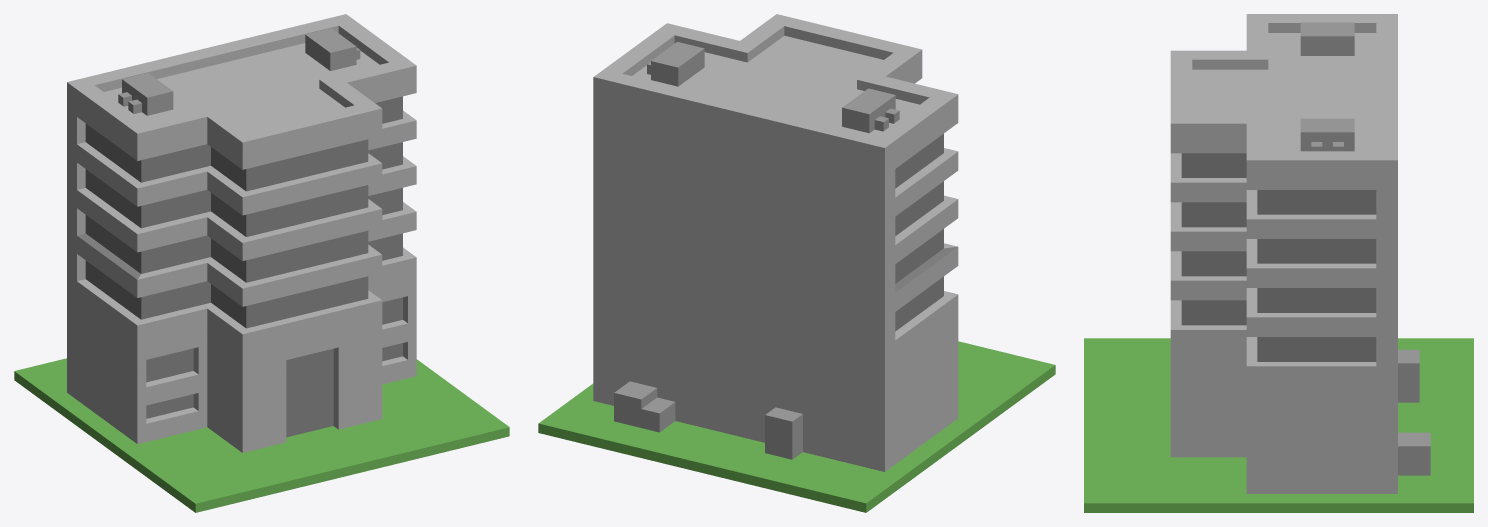
3 renders of one model, left to right at view 1: azimuth 30°, elevation 25°; view 2: azimuth 150°, elevation 25°; view 3: azimuth 270°, elevation 25°, orthographic. The views are drawn at different scales.
Parts seen in each view (by area): view 1: 4; view 2: 4; view 3: 4.
Part boxes in pixels (x1,y1,x2,y2): 4: [14, 14, 509, 512]; 4: [538, 14, 1055, 512]; 4: [1084, 14, 1473, 512].
Bounding box in the file's own units: 900 × 900 × 900.
